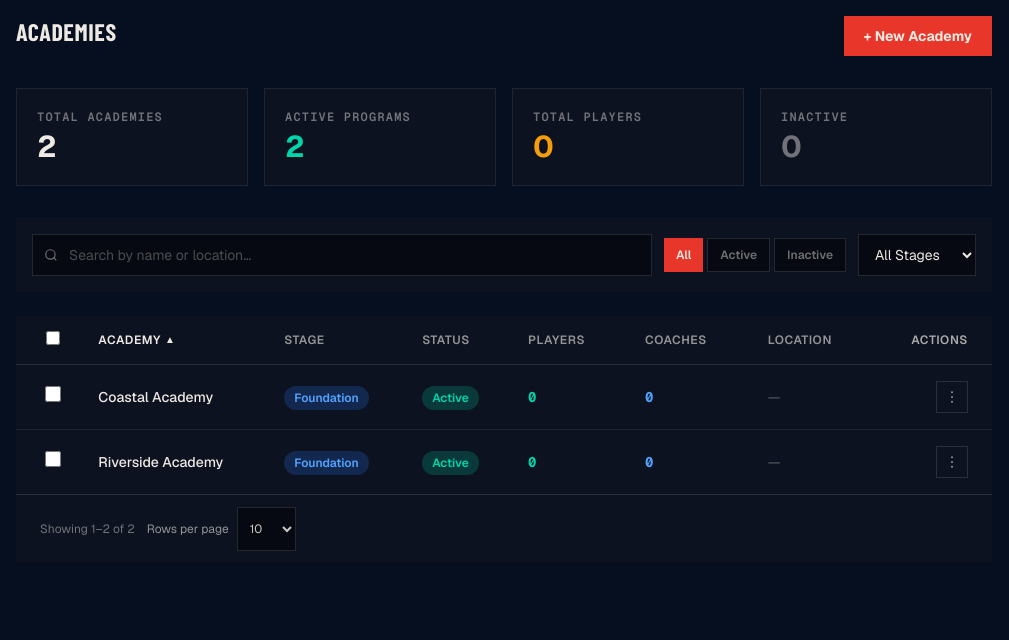
Test: AcademyClient › Select all selects every filtered academy, and toggles off the same way
Expected: the text "Riverside Academy" is shown, [98,453,223,471]
Step 1. Click the checkbox titled "Select all" → x=53, y=338, box [46,331,60,345]
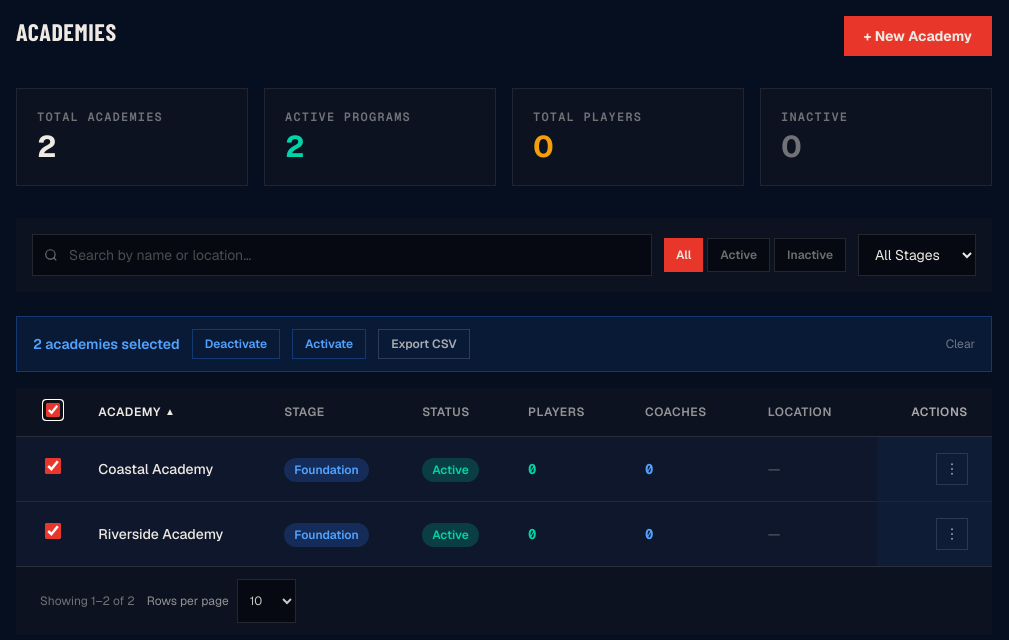
Expected: the text "2 academies selected" is shown, [33,334,180,354]
Step 2. Click the checkbox titled "Select all" → x=53, y=410, box [46,403,60,417]
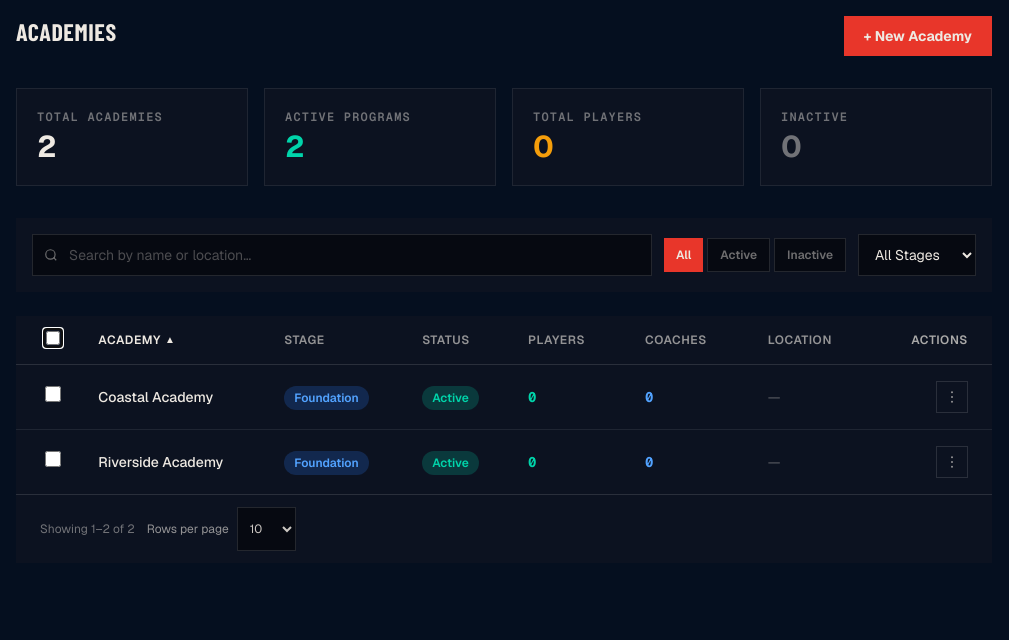
Expected: the text "selected" is gone
